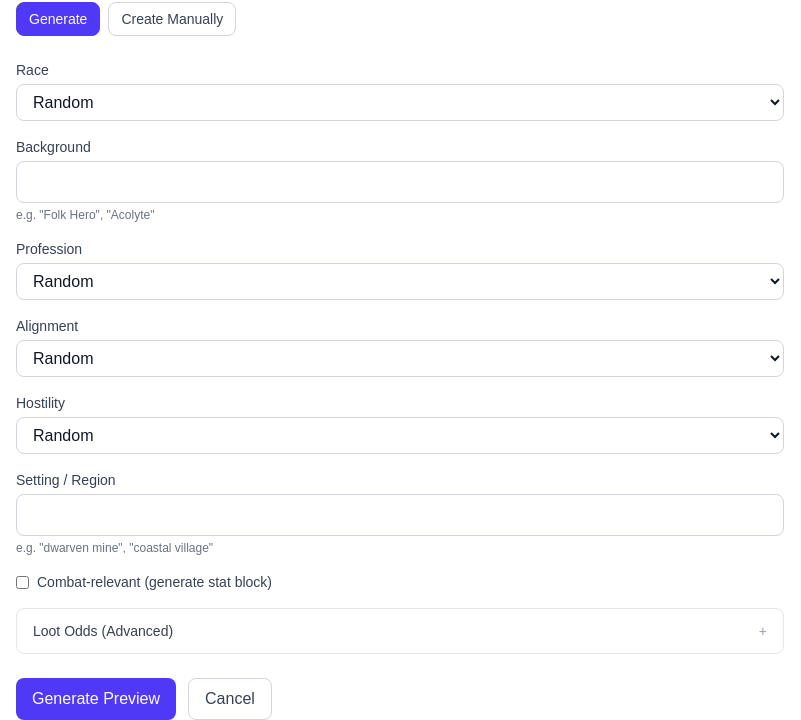
it: NewNpcPage › renders the stat block card in the preview when one is present
(page scrolled)
Click the button "Generate Preview" at (96, 699), box [16,678,176,719]
(page scrolled)
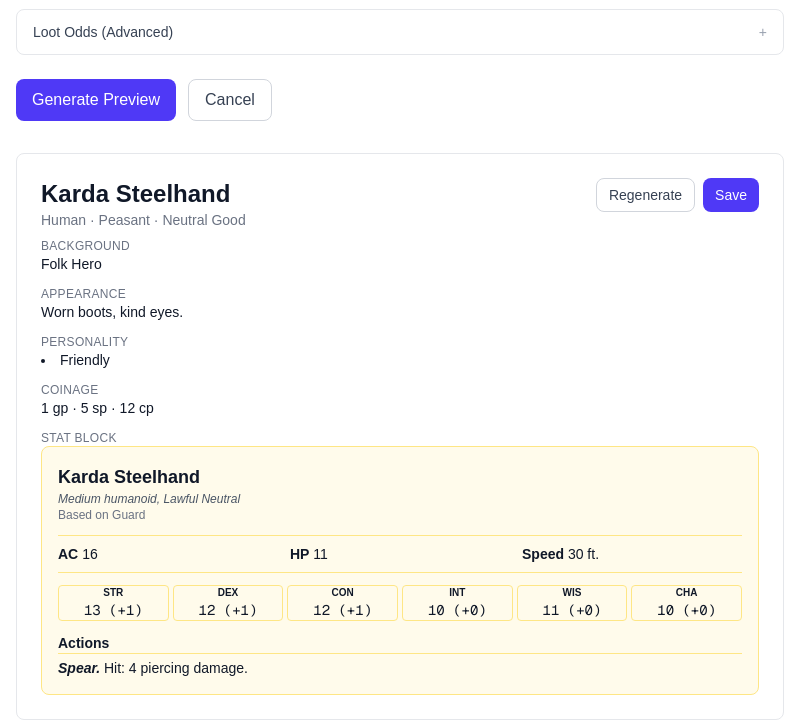
Expected: the element with test id "npc-stat-block" is shown, [41,446,759,695]
Expected: the text "Based on Guard" is shown, [58,508,145,522]
